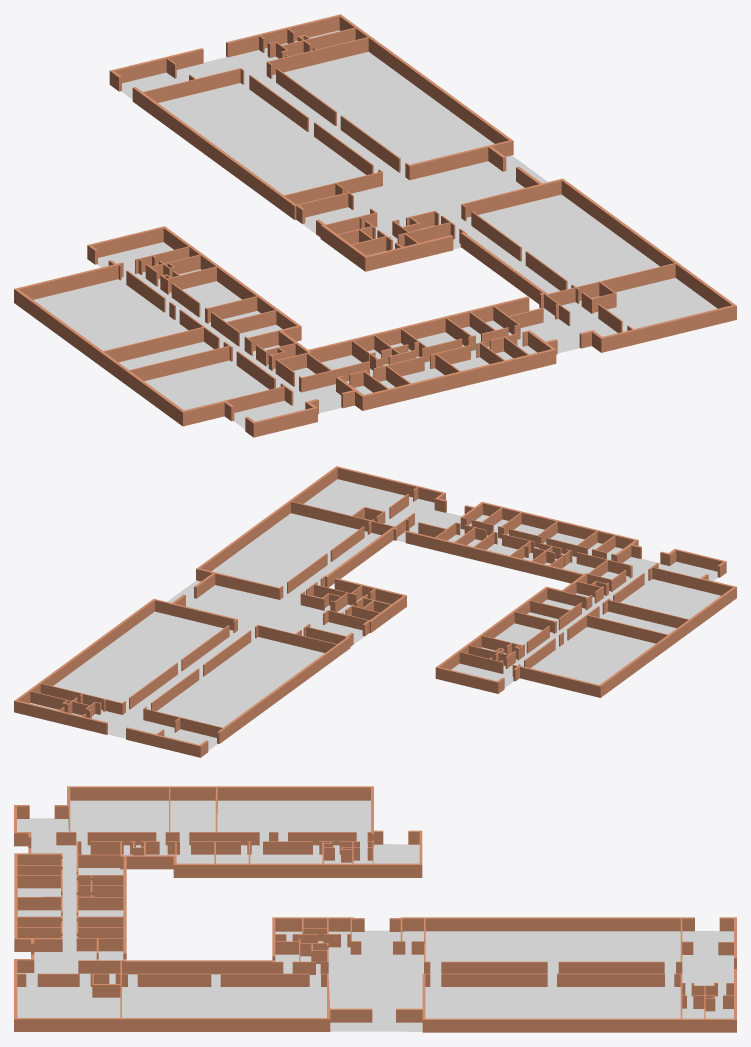
The picture shows the model from 3 angles, top to bottom: view 1: azimuth 30°, elevation 25°; view 2: azimuth 150°, elevation 25°; view 3: azimuth 270°, elevation 25°; orthographic projection. The views are drawn at different scales.
Parts seen in each view (by area): view 1: 立方体, 平面; view 2: 立方体, 平面; view 3: 立方体, 平面.
Boxes of the visible parts, x1,y1,x2,y2 form: 立方体: (14,14,736,437); 平面: (33,30,717,429); 立方体: (14,466,736,757); 平面: (29,479,720,750); 立方体: (14,786,736,1032); 平面: (17,800,733,1031).
Size of the model in its own units: 372 by 9.49 by 487.
